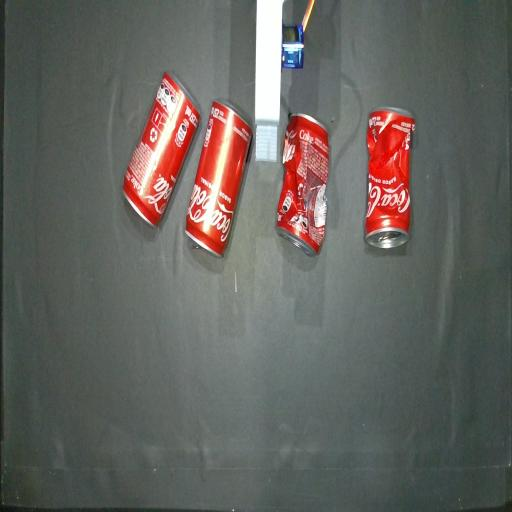lata: (123, 73, 200, 225), (185, 100, 252, 257)
lata_defectuoso: (276, 113, 329, 256), (365, 108, 415, 247)
